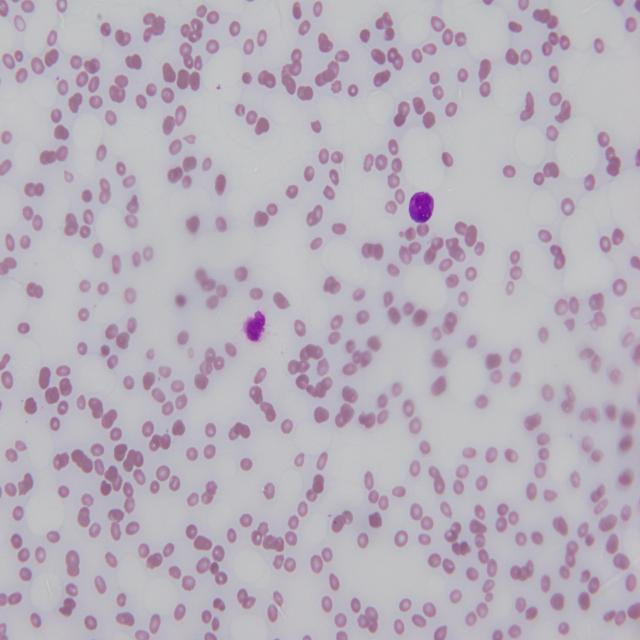cell: (409, 191, 434, 223), (244, 311, 265, 341)
